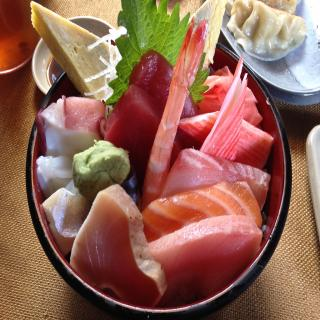Cheese: (31, 0, 115, 100)
